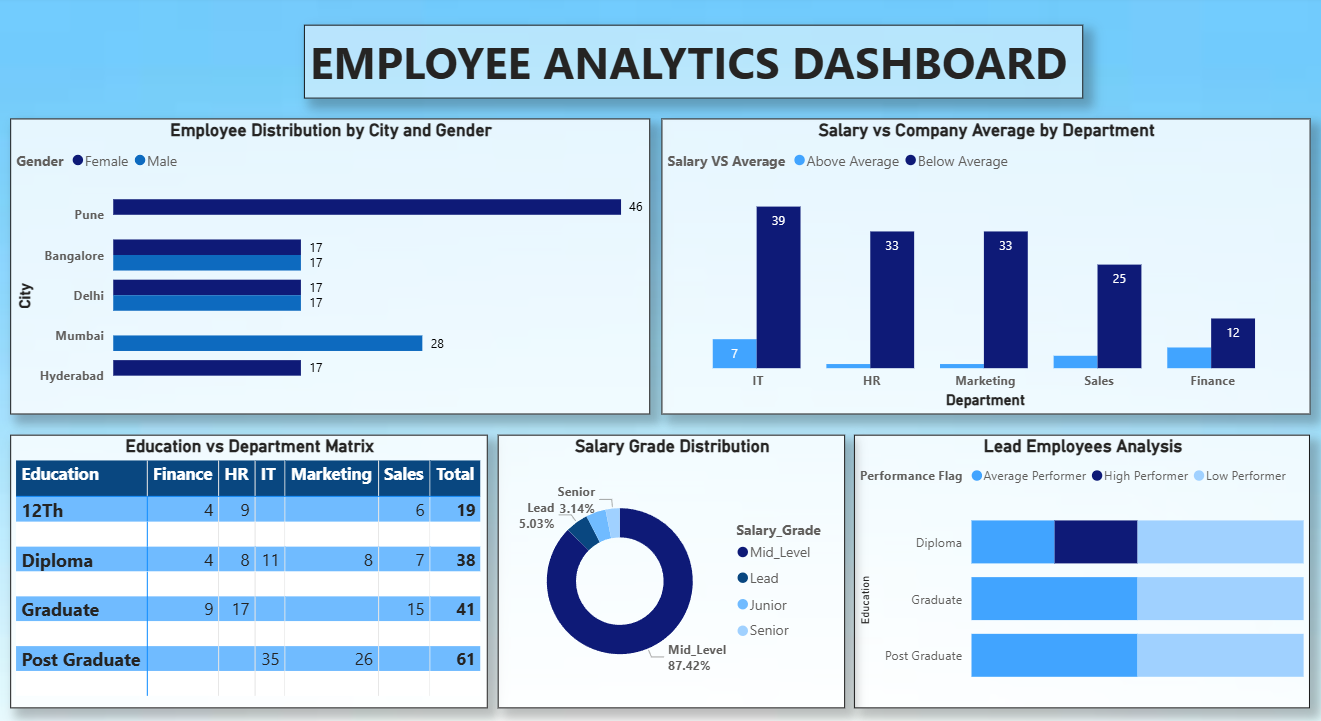

Layout of this report page (visuals, bound fields, positions):
{"tool":"powerbi","page":{"name":"Page 2","canvas":[1280,720],"ordinal":1},"visuals":[{"type":"clusteredBarChart","title":"Employee Distribution by City and Gender","fields":{"Category":["Cleaned_Employee_Dataset.City"],"Y":["Cleaned_Employee_Dataset.Total Employees"],"Series":["Cleaned_Employee_Dataset.Gender"]},"box":[10.9,118.2,617.7,285.9],"z":0},{"type":"clusteredColumnChart","title":"Salary vs Company Average by Department","fields":{"Series":["Cleaned_Employee_Dataset.Salary VS Average"],"Y":["Cleaned_Employee_Dataset.Total Employees"],"Category":["Cleaned_Employee_Dataset.Department"]},"box":[639.4,118.2,626.1,285.9],"z":1},{"type":"pivotTable","title":"Education vs Department Matrix","fields":{"Rows":["Cleaned_Employee_Dataset.Education"],"Columns":["Cleaned_Employee_Dataset.Department"],"Values":["Cleaned_Employee_Dataset.Total Employees"]},"box":[10.9,423.5,460.9,264.2],"z":2},{"type":"hundredPercentStackedBarChart","title":"Lead Employees Analysis","fields":{"Y":["Cleaned_Employee_Dataset.Lead Employees"],"Category":["Cleaned_Employee_Dataset.Education"],"Series":["Cleaned_Employee_Dataset.Performance Flag"]},"box":[825.2,423.5,440.4,264.2],"z":3},{"type":"donutChart","title":"Salary Grade Distribution","fields":{"Y":["Cleaned_Employee_Dataset.Total Employees"],"Category":["Cleaned_Employee_Dataset.Salary_Grade"]},"box":[481.4,423.5,335.4,264.2],"z":4},{"type":"textbox","box":[294.4,27.7,751.6,71.2],"z":5}]}

Visuals, with their boxes in screenshot pixels (x1, y1, x2, y2):
"Employee Distribution by City and Gender" clusteredBarChart: bbox=[15, 121, 648, 415]
"Salary vs Company Average by Department" clusteredColumnChart: bbox=[659, 121, 1302, 415]
"Education vs Department Matrix" pivotTable: bbox=[15, 434, 487, 705]
"Lead Employees Analysis" hundredPercentStackedBarChart: bbox=[850, 434, 1302, 705]
"Salary Grade Distribution" donutChart: bbox=[497, 434, 841, 705]
textbox: bbox=[305, 28, 1076, 101]
